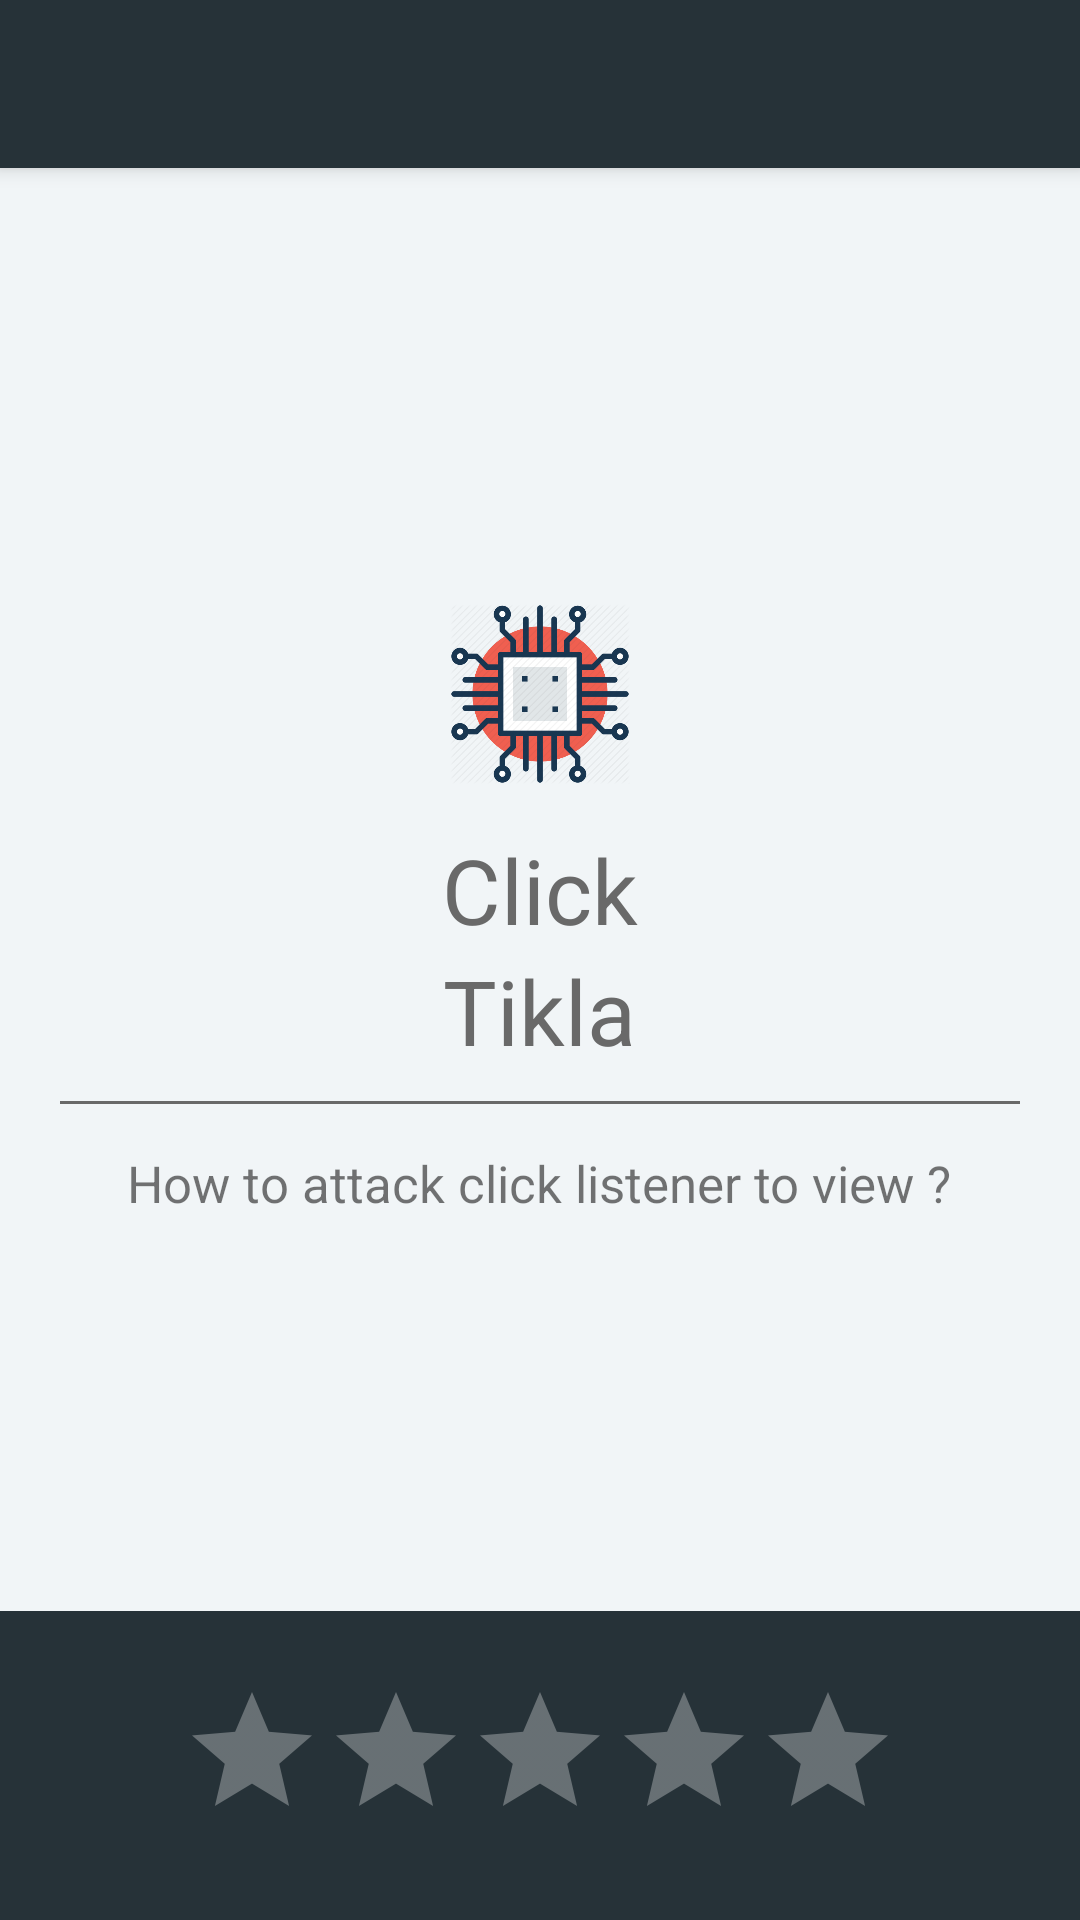

Point at icon controls on the screen. Image size 1080x1920, points as [x,y].
electronic: [540,694]
